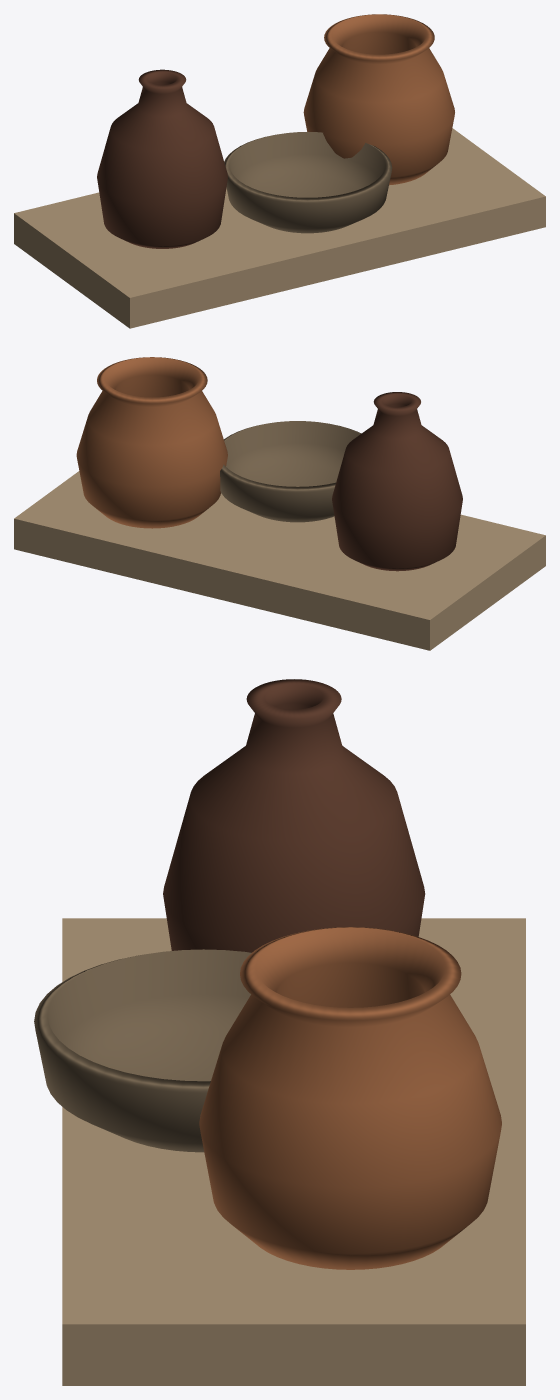
Rendered from kiln.glb.
3 views of the same model, one above another, from view 1: azimuth 30°, elevation 25°; view 2: azimuth 150°, elevation 25°; view 3: azimuth 270°, elevation 25° (orthographic). The views are drawn at different scales.
Visible parts, largest first — view 1: kiln; view 2: kiln; view 3: kiln.
Part boxes in pixels (x1,y1,x2,y2): kiln: (14, 14, 545, 328); kiln: (14, 357, 545, 650); kiln: (34, 679, 525, 1385).
Size of the model in its own units: 4.25 by 1.81 by 2.17.
